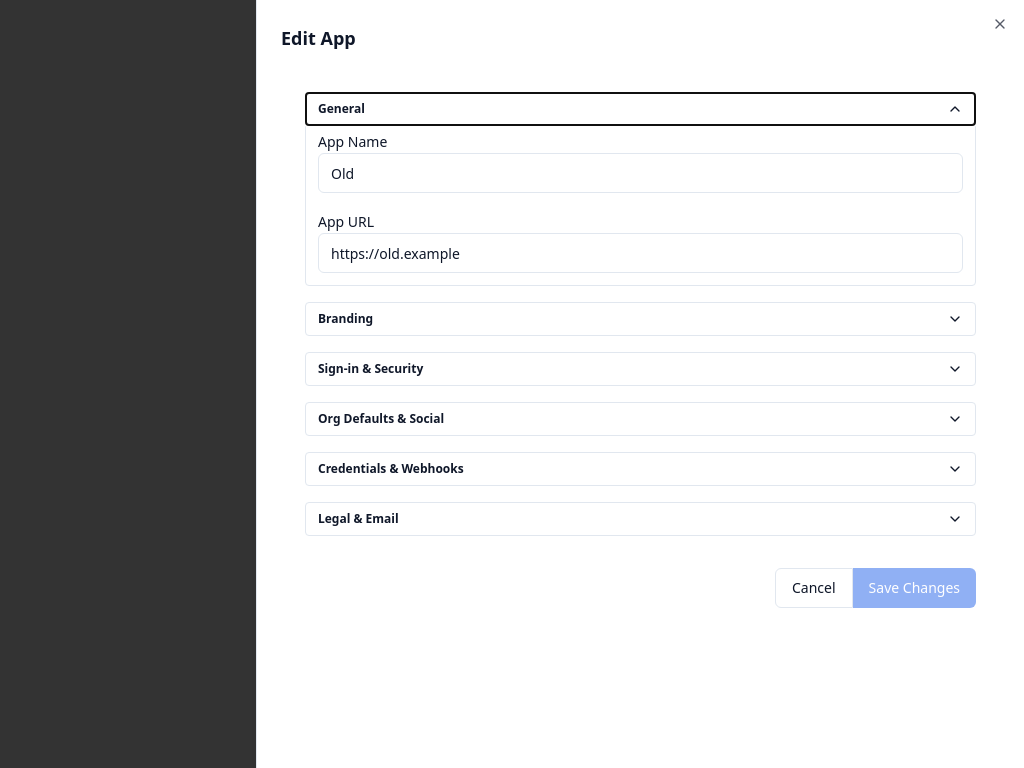
Test: AppEditDrawer › shows the rotation date and a Regenerate button for a confidential app
Click the button "Credentials & Webhooks" at x=391, y=468, box [306,453,975,485]
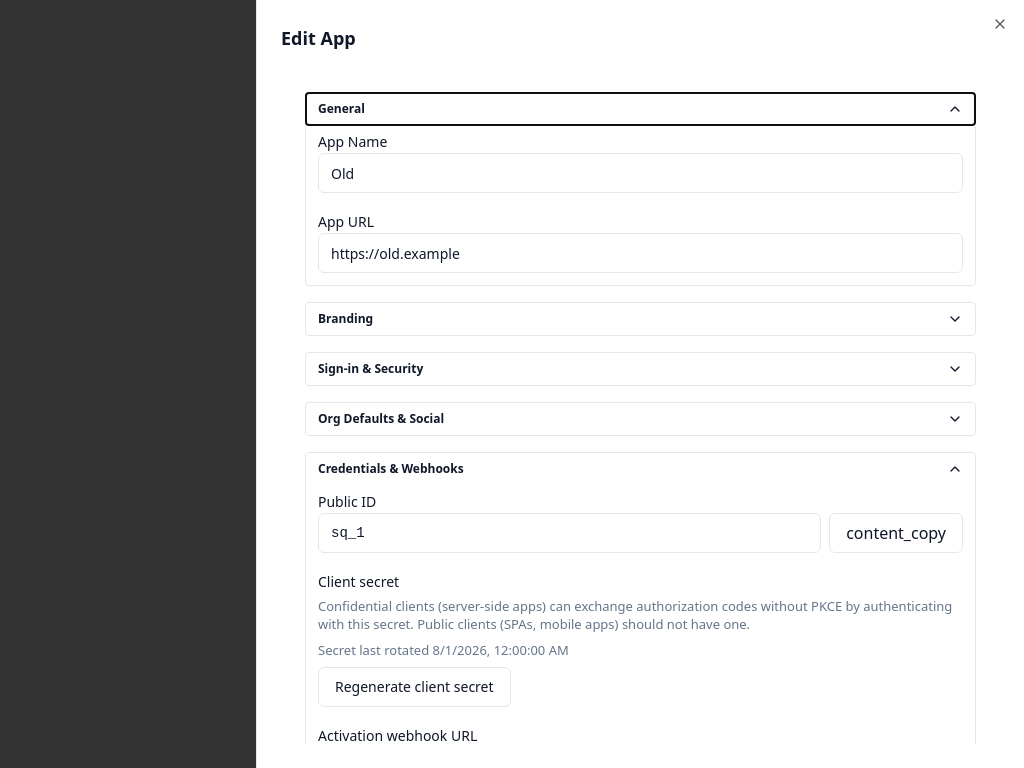
Now the button "Regenerate client secret" is shown, box [318,667,511,707]
